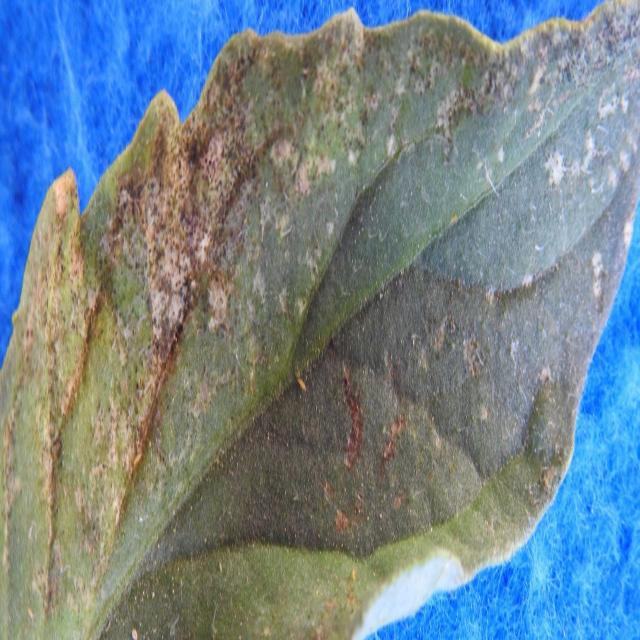Thrip-Larva-: (296, 372, 310, 397)
